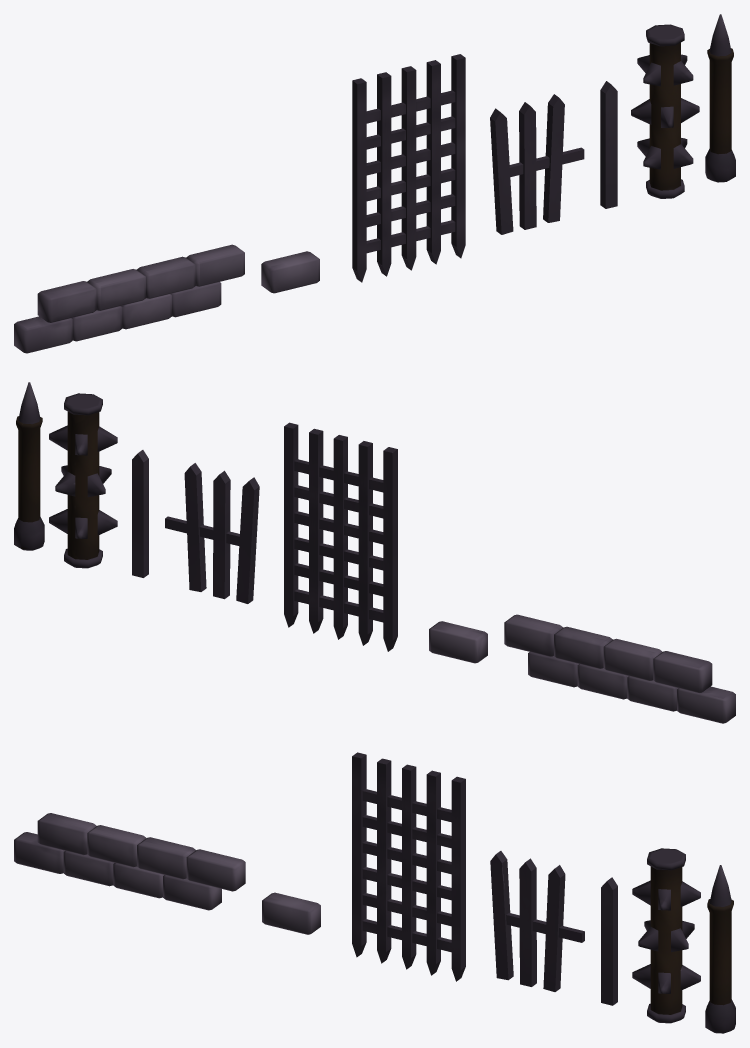
Rendered from GMTKCastleTerrain.fbx.
3 renders of one model, top to bottom at view 1: azimuth 30°, elevation 25°; view 2: azimuth 150°, elevation 25°; view 3: azimuth 330°, elevation 25°, orthographic.
Visible parts, largest first — view 1: Cube.008, Cube.010, Cylinder.001, Cube.018, Cylinder.002, Cube.021, Cube.014; view 2: Cube.008, Cube.010, Cylinder.001, Cube.018, Cylinder.002, Cube.021, Cube.014; view 3: Cube.008, Cube.010, Cylinder.001, Cube.018, Cylinder.002, Cube.021, Cube.014.
Part boxes in pixels (x1,y1,x2,y2): Cube.008: (352,54,465,282); Cube.010: (14,244,244,353); Cylinder.001: (631,24,699,198); Cube.018: (490,94,584,234); Cylinder.002: (705,14,735,182); Cube.021: (600,81,617,208); Cube.014: (261,251,319,293); Cube.008: (284,422,397,651); Cube.010: (504,614,735,723); Cylinder.001: (49,393,117,568); Cube.018: (165,463,259,603); Cylinder.002: (14,382,44,550); Cube.021: (132,450,148,577); Cube.014: (429,621,487,663); Cube.008: (352,752,465,981); Cube.010: (14,813,245,910); Cylinder.001: (632,848,700,1023); Cube.018: (490,851,584,991); Cylinder.002: (705,865,735,1033); Cube.021: (601,877,617,1005); Cube.014: (262,892,320,934).
Size of the model in its own units: 2915 by 779 by 228.
1 material, 1 textured.
